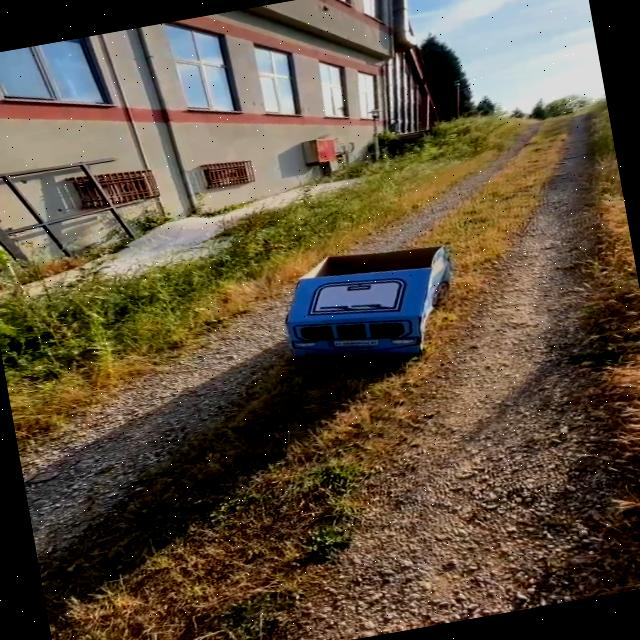blue_car: (216, 216, 515, 417)
